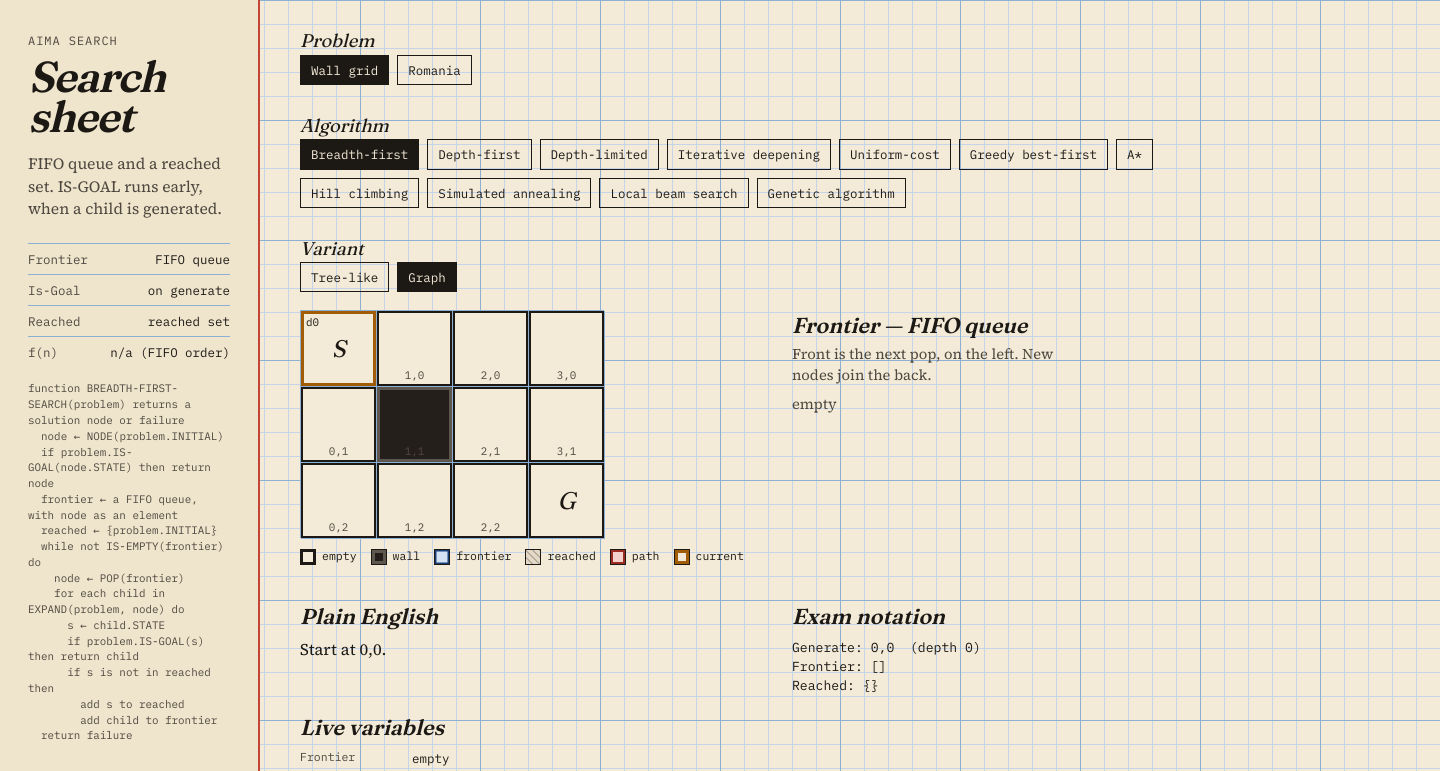
Test: variant control › shows a fixed graph label for uniform-cost and A*, and no toggle
Click the button "Uniform-cost" at (895, 155), box x1=839 y1=140 x2=951 y2=170
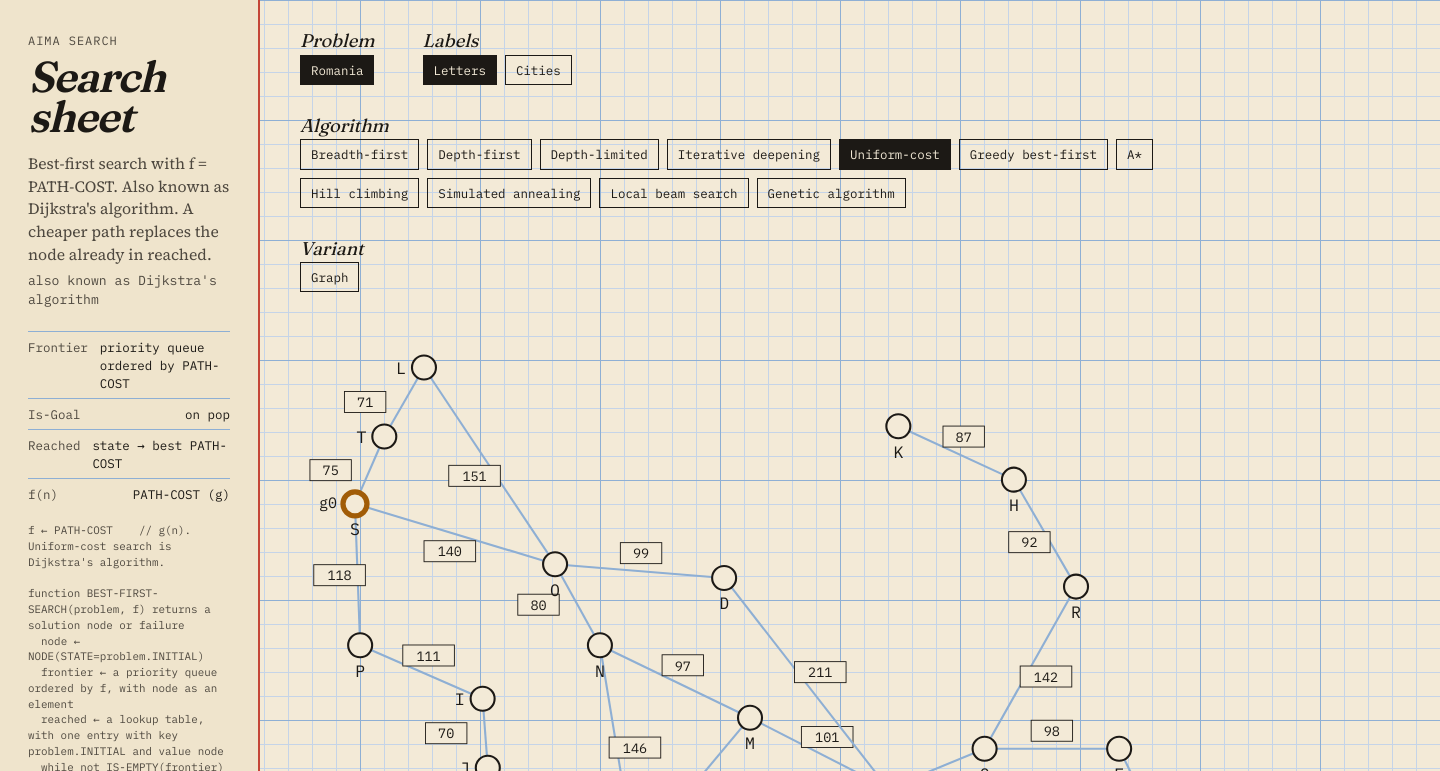
Expected: the text "Graph" is shown, x1=300 y1=262 x2=359 y2=292
Now the button "Tree-like" is gone
Now the text "state → best PATH-COST" is shown, box x1=92 y1=436 x2=230 y2=472
Click the button "A*" at (1134, 155), box x1=1116 y1=140 x2=1153 y2=170
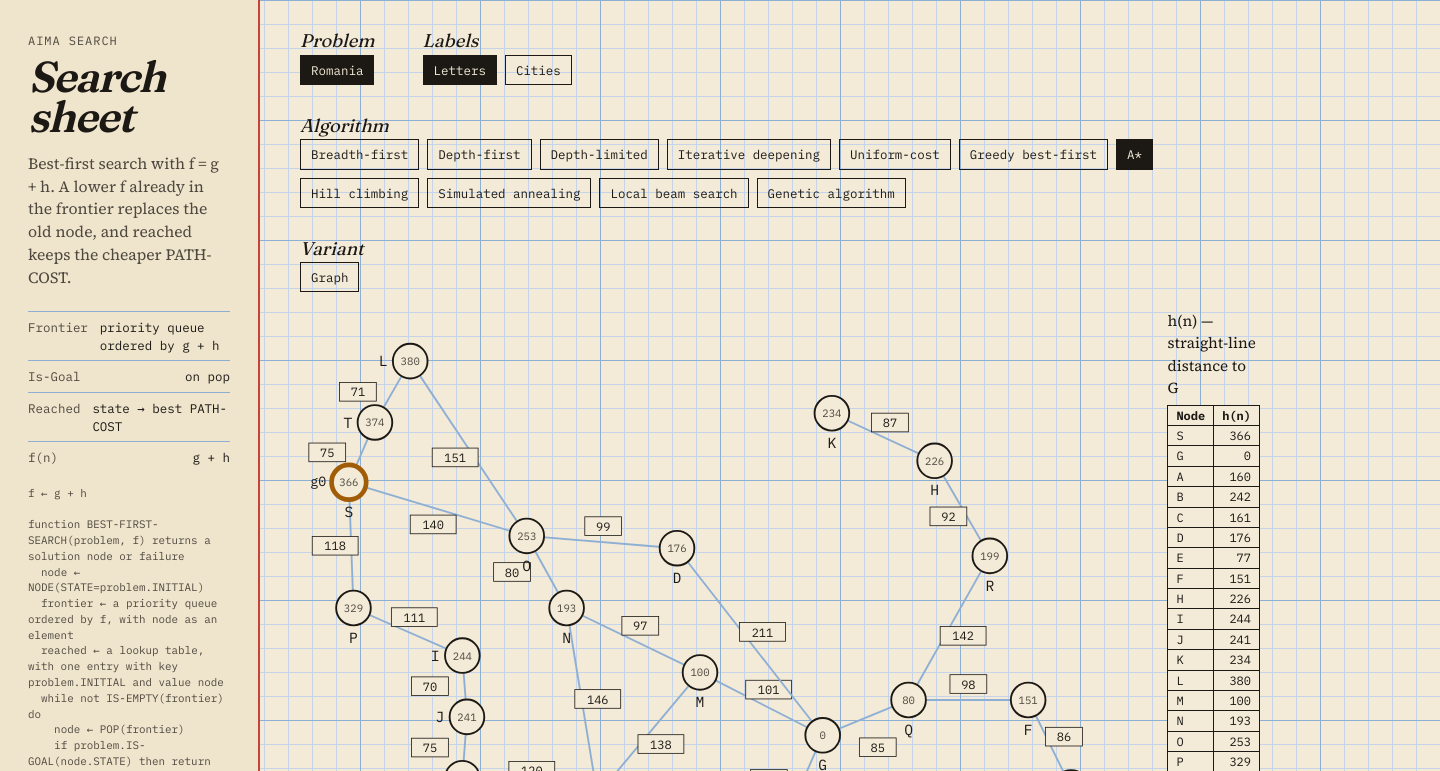
Expected: the text "Graph" is shown, x1=300 y1=262 x2=359 y2=292
Now the text "g + h" is shown, box x1=193 y1=448 x2=230 y2=466
